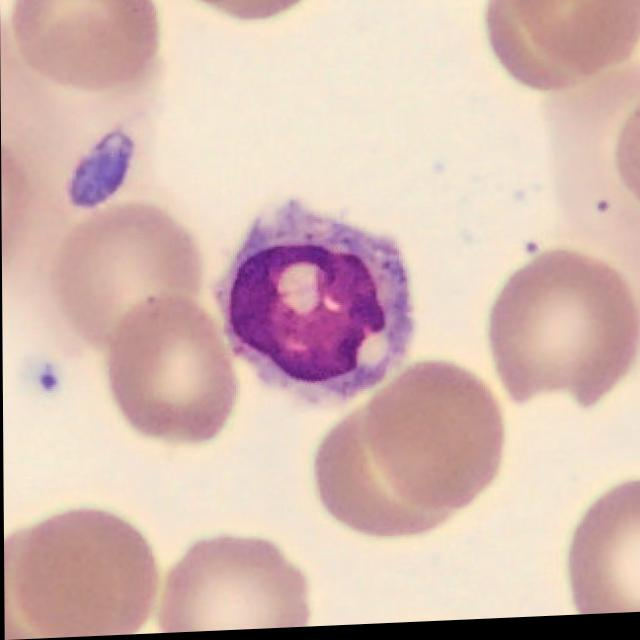Artefato: (215, 203, 407, 402)
